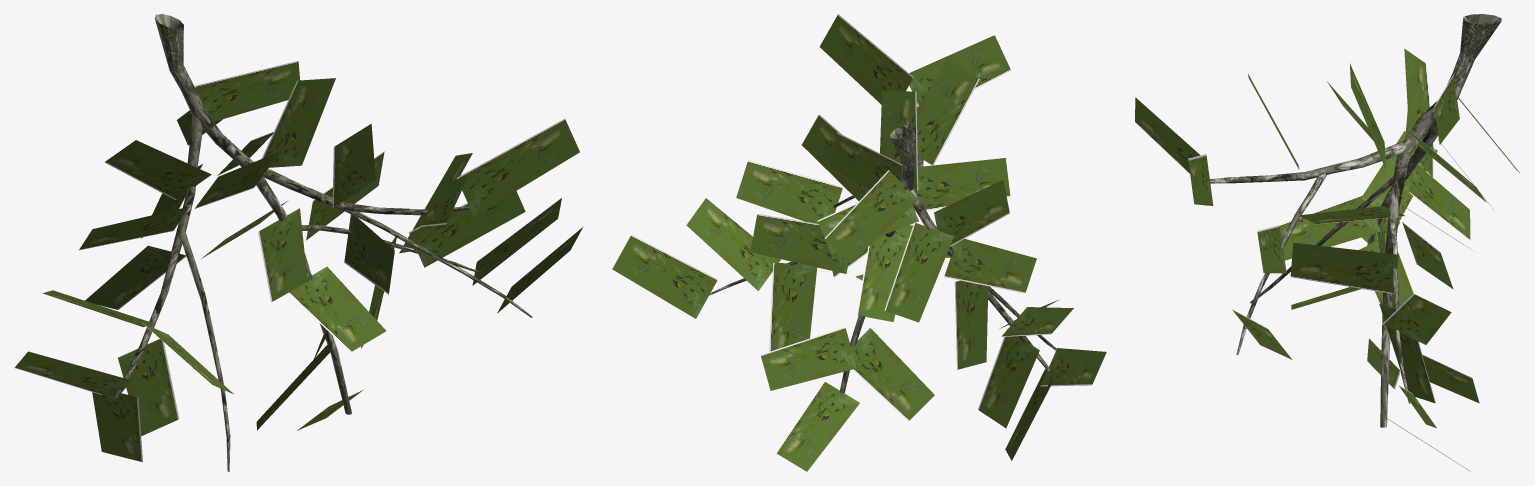
File: Branch08.fbx
3 renders of one model, left to right at view 1: azimuth 30°, elevation 25°; view 2: azimuth 150°, elevation 25°; view 3: azimuth 270°, elevation 25°, orthographic. The views are drawn at different scales.
Visible parts, largest first — view 1: Branch08, Object001; view 2: Branch08, Object001; view 3: Branch08, Object001.
Part boxes in pixels (x1,y1,x2,y2): Branch08: [14, 14, 583, 471]; Object001: [155, 19, 192, 91]; Branch08: [612, 14, 1106, 471]; Object001: [890, 129, 916, 178]; Branch08: [1135, 14, 1519, 471]; Object001: [1452, 20, 1500, 78].
Bounding box in the file's own units: 150 × 112 × 98.58.
